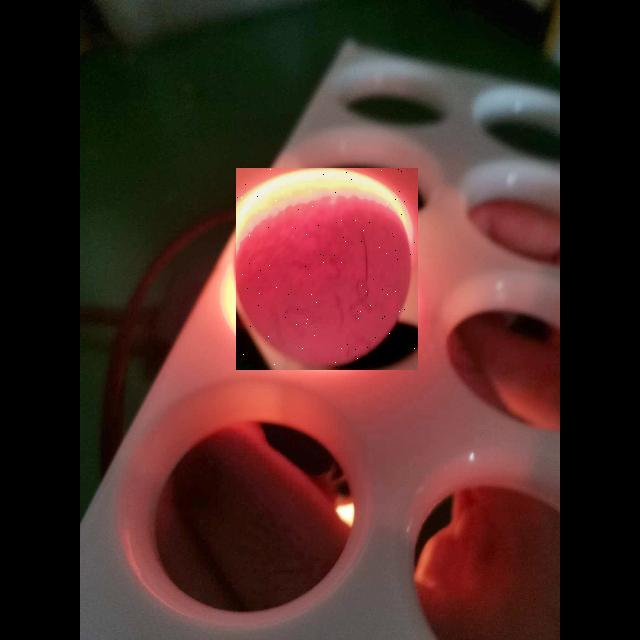Infertile: (236, 168, 418, 370)
